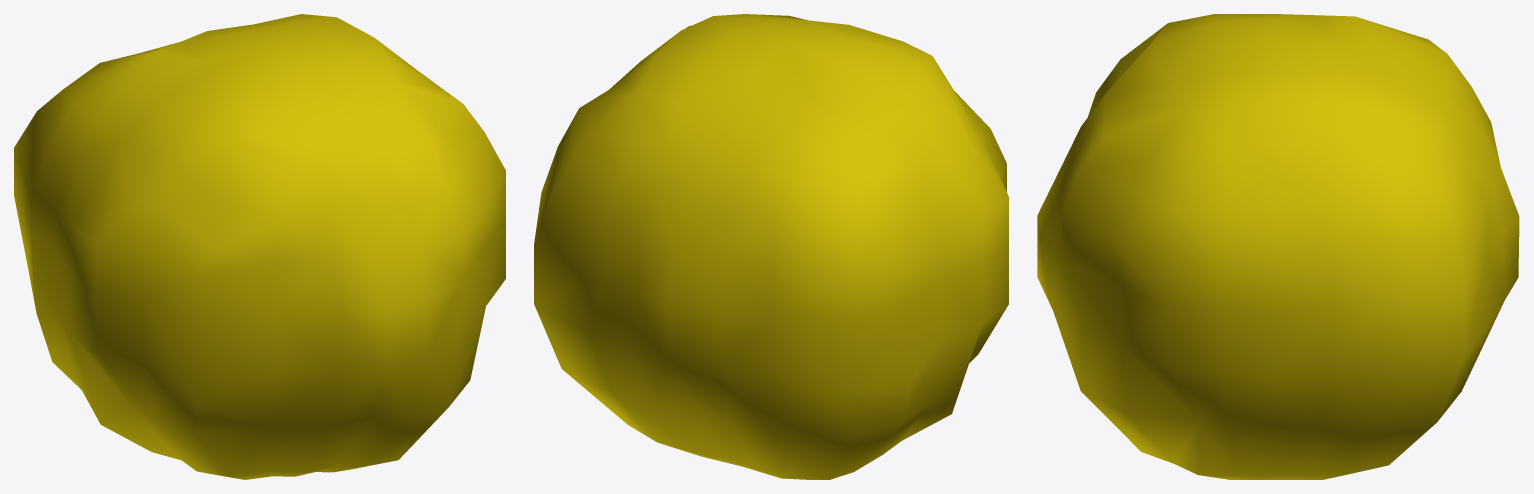
File: BreinKoraal 1.fbx
3 renders of one model, left to right at view 1: azimuth 30°, elevation 25°; view 2: azimuth 150°, elevation 25°; view 3: azimuth 270°, elevation 25°, orthographic. The views are drawn at different scales.
Visible parts, largest first — view 1: CubeBreinKoraal; view 2: CubeBreinKoraal; view 3: CubeBreinKoraal.
Boxes of the visible parts, x1=… form: CubeBreinKoraal: x1=14, y1=14, x2=505, y2=479; CubeBreinKoraal: x1=534, y1=14, x2=1008, y2=479; CubeBreinKoraal: x1=1037, y1=14, x2=1519, y2=479.
Size of the model in its own units: 236 by 230 by 246.
